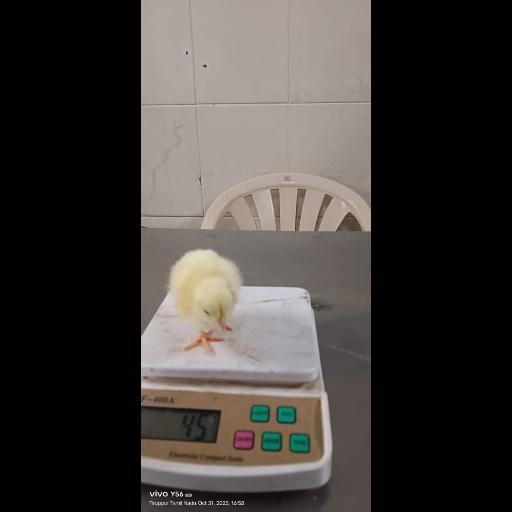chick: (168, 249, 246, 355)
